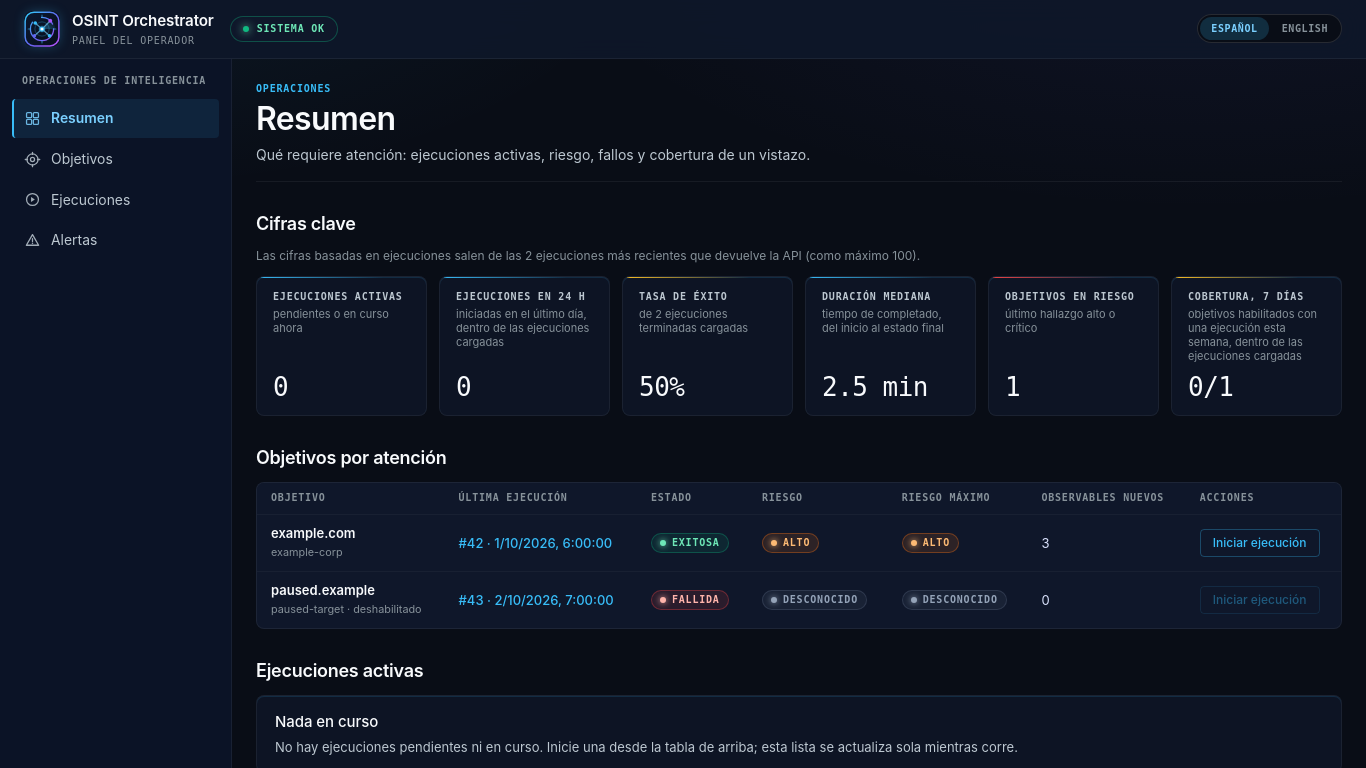
Test: App shell › renders in Spanish and switches language on demand
Expected: the heading "Cifras clave" is shown, [256,213,356,234]
Expected: the link "Objetivos" is shown, [24,151,113,168]
Click the button "English". click: (1305, 29)
box: [1271,17,1339,40]
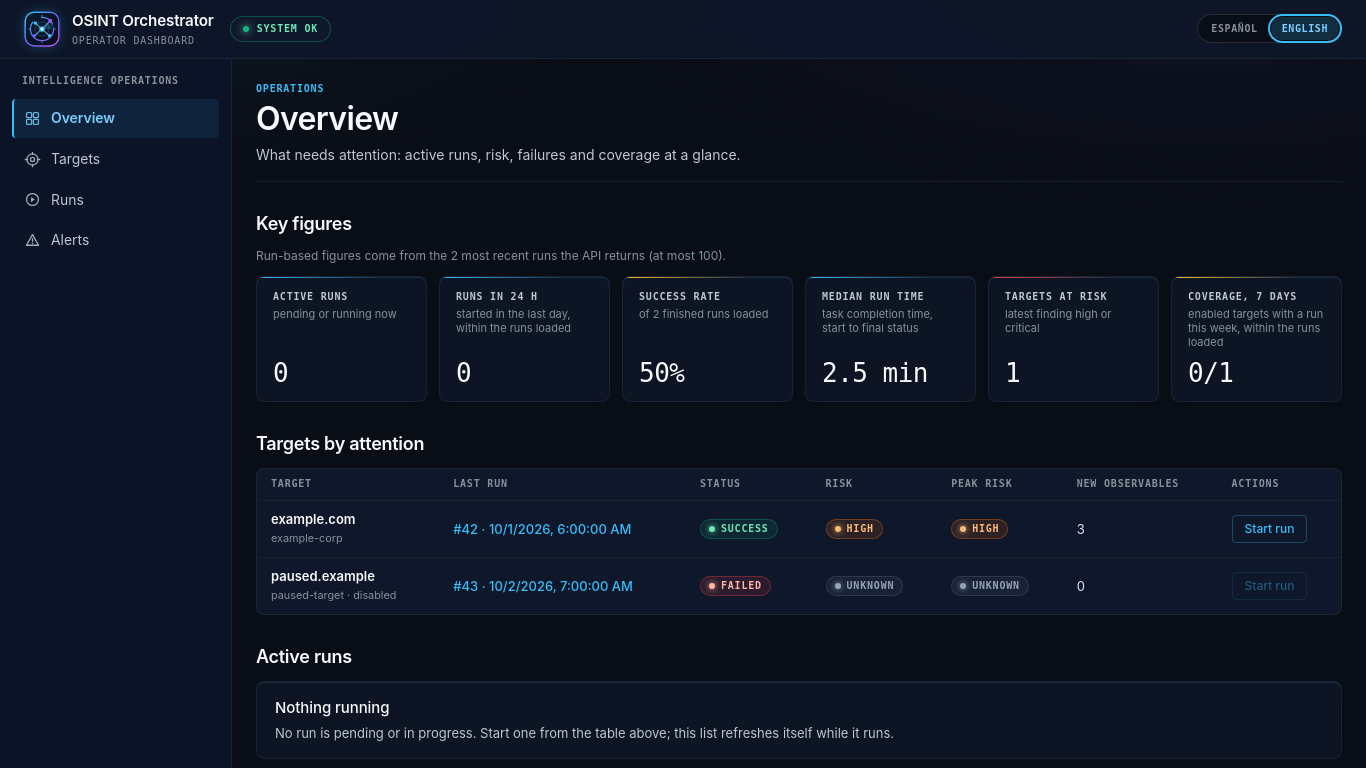
Result: the heading "Key figures" is shown at [256,213,352,234]
